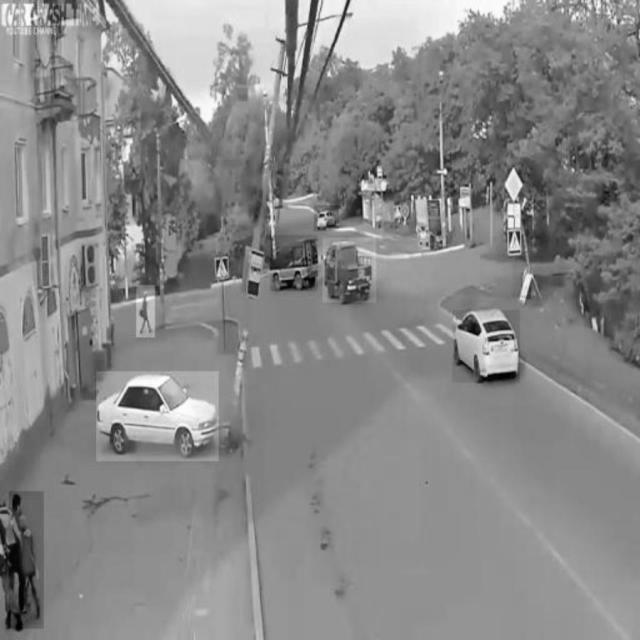person: (9, 492, 44, 629), (137, 286, 155, 338)
vehicle: (97, 371, 219, 461), (453, 311, 520, 383), (322, 238, 376, 302), (270, 235, 317, 291), (314, 206, 339, 232)
